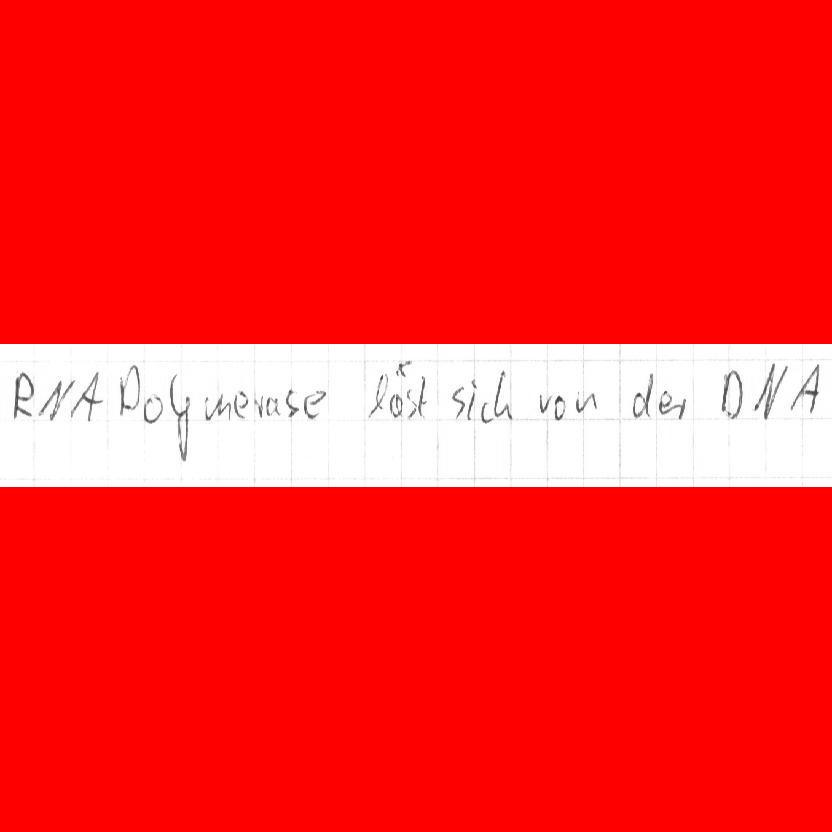Char: (752, 360, 788, 423), (67, 366, 103, 422), (788, 361, 823, 415), (35, 377, 74, 424), (718, 365, 745, 423), (169, 393, 192, 461), (115, 361, 141, 420), (9, 369, 37, 423), (389, 356, 410, 420), (489, 367, 514, 420), (630, 369, 655, 420), (199, 389, 232, 423), (367, 368, 389, 419), (140, 391, 165, 424), (302, 388, 327, 421), (415, 373, 430, 419), (449, 383, 467, 421), (573, 389, 600, 413), (465, 375, 477, 421), (536, 387, 553, 418), (167, 372, 178, 419), (552, 391, 569, 421), (670, 395, 688, 421), (284, 386, 299, 417), (405, 386, 418, 421), (232, 389, 247, 419), (264, 393, 281, 419), (658, 389, 673, 417), (251, 390, 264, 418), (479, 399, 493, 423)
